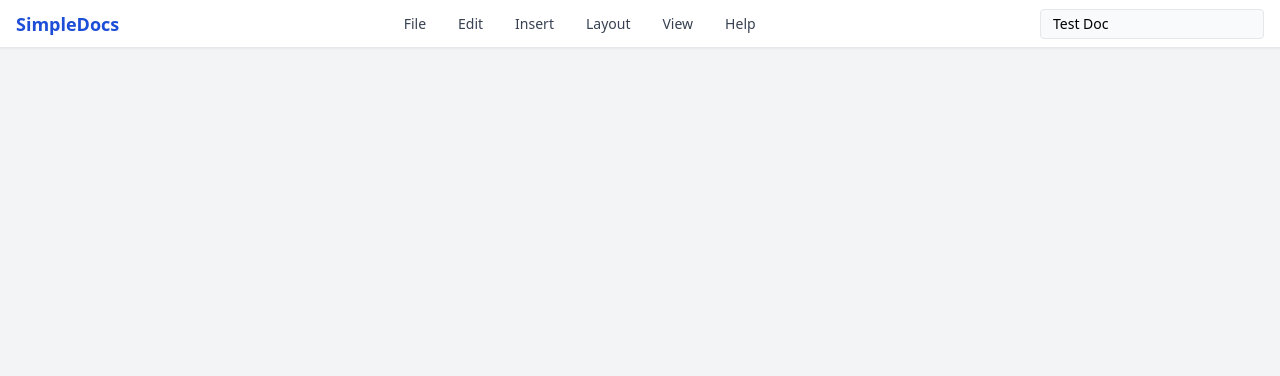
Scenario: Navbar — menu close behavior › File menu › closes after clicking Save
Step 1. Click the button "File" → (415, 24), box [396,10,434,38]
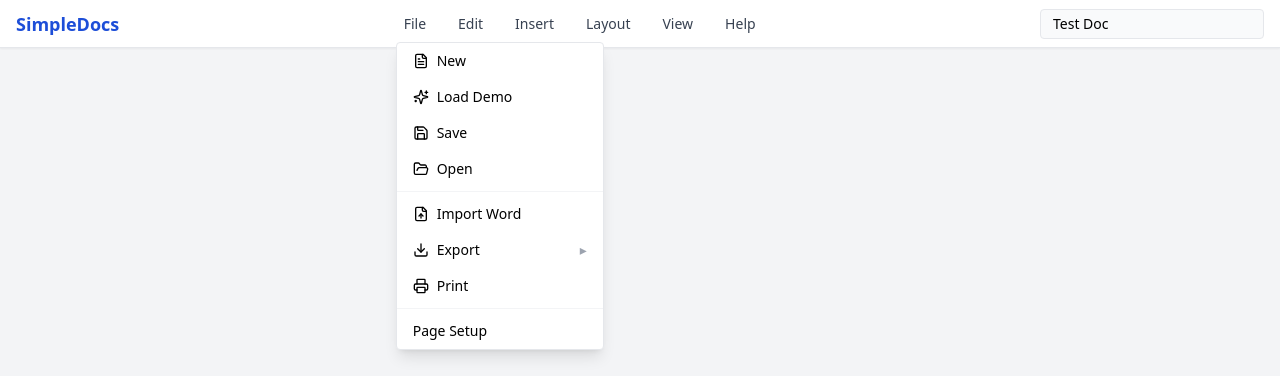
Step 2. Click the button "Save" → (500, 132), box [397,114,603,150]
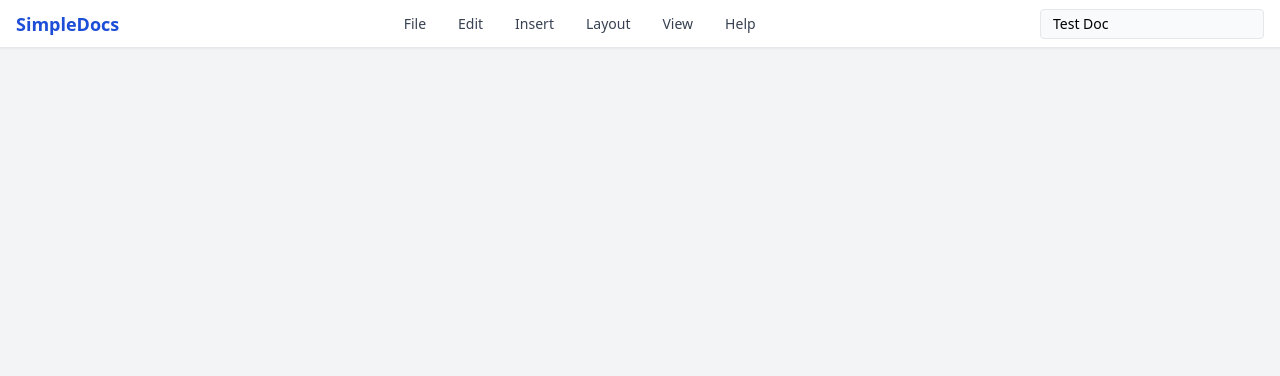
Check: the button "Save" is gone
